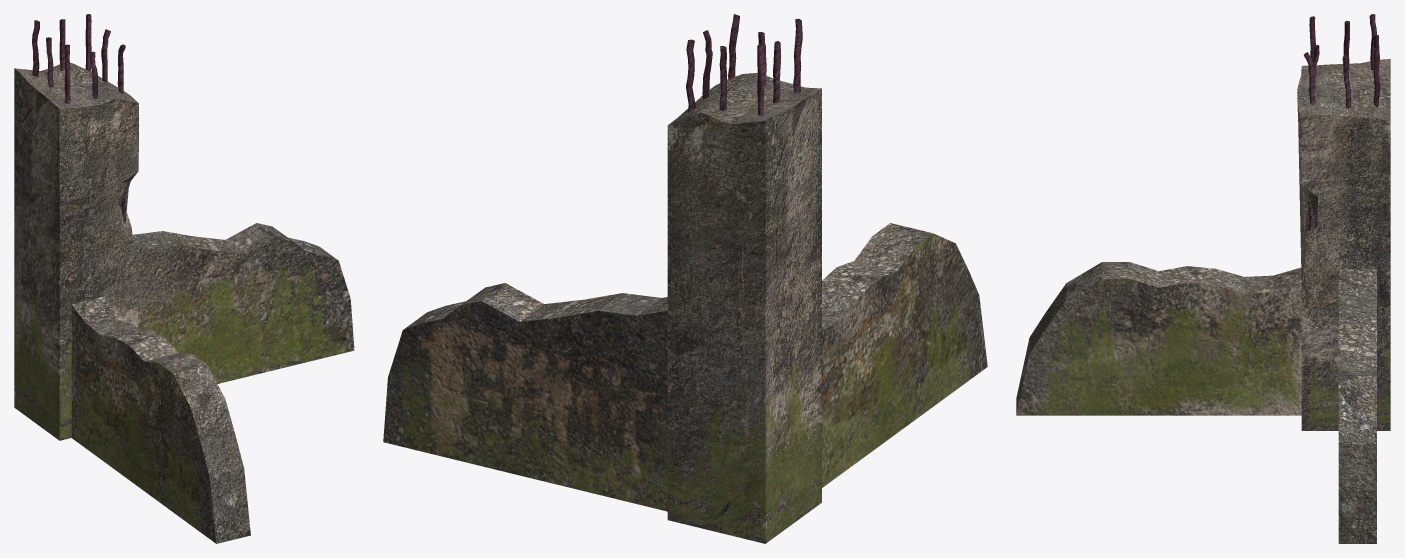
File: Ruins.FBX
3 renders of one model, left to right at view 1: azimuth 30°, elevation 25°; view 2: azimuth 150°, elevation 25°; view 3: azimuth 270°, elevation 25°, orthographic. The views are drawn at different scales.
Visible parts, largest first — view 1: Column; view 2: Column; view 3: Column.
Part boxes in pixels (box(x1,y1,x2,y2)): Column: box(14, 14, 354, 543); Column: box(383, 14, 987, 543); Column: box(1016, 14, 1390, 543).
Size of the model in its own units: 200 by 238 by 210.
Materials: 1 (1 with a texture image).
